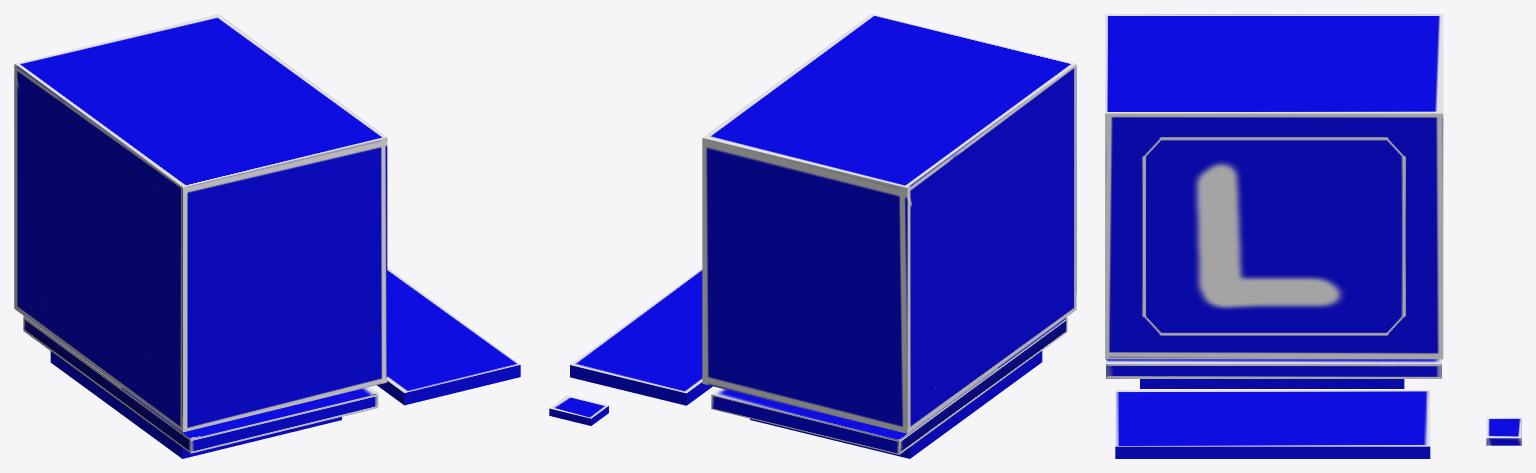
File: Workstation_Linux_Simple.fbx
3 views of the same model, side by side, from view 1: azimuth 30°, elevation 25°; view 2: azimuth 150°, elevation 25°; view 3: azimuth 270°, elevation 25° (orthographic).
Parts seen in each view (by area): view 1: Cube, Cube.003, Cube.001, Cube.002; view 2: Cube, Cube.003, Cube.001, Cube.002, Cube.004; view 3: Cube, Cube.003, Cube.001, Cube.002, Cube.004.
Boxes of the visible parts, x1,y1,x2,y2 form: Cube: (14,14,387,432); Cube.003: (377,267,520,405); Cube.001: (23,316,378,453); Cube.002: (50,351,341,458); Cube: (702,14,1076,433); Cube.003: (570,268,712,405); Cube.001: (711,317,1067,454); Cube.002: (750,351,1042,458); Cube.004: (549,395,608,425); Cube: (1105,14,1443,359); Cube.003: (1115,390,1430,458); Cube.001: (1106,359,1441,378); Cube.002: (1140,379,1404,388); Cube.004: (1486,417,1521,445).
Size of the model in its own units: 129 by 104 by 136.
Materials: 5 (5 with a texture image).
